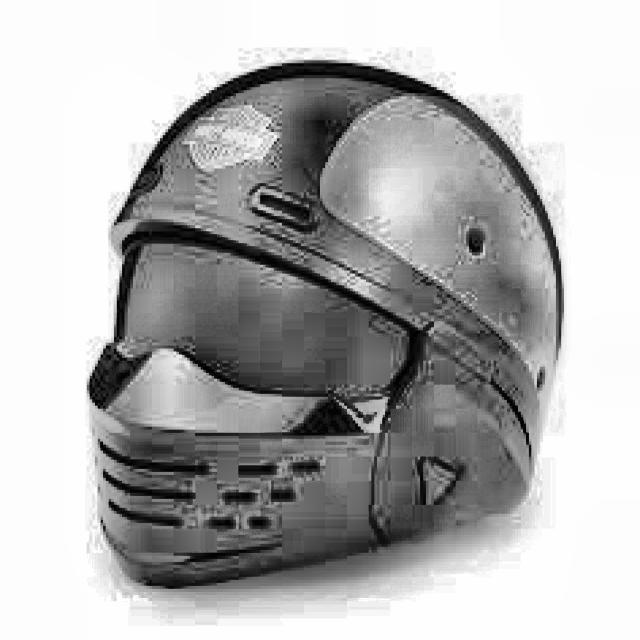Helmet: (81, 44, 564, 608)
